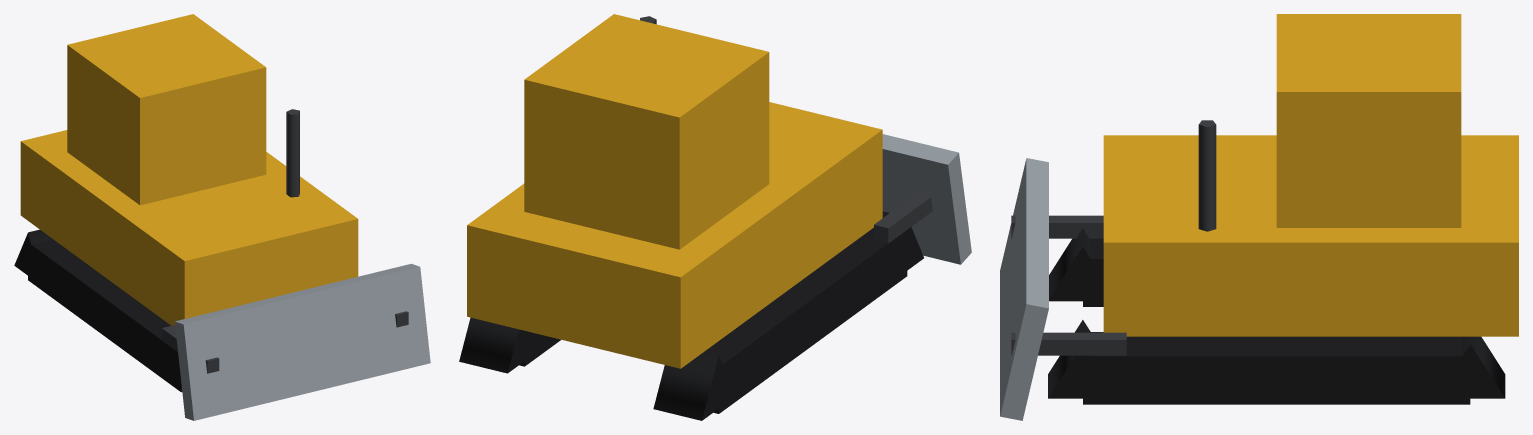
File: veh_ground_bulldozer_a05_lod2.glb
3 views of the same model, side by side, from view 1: azimuth 30°, elevation 25°; view 2: azimuth 150°, elevation 25°; view 3: azimuth 270°, elevation 25° (orthographic). The views are drawn at different scales.
Visible parts, largest first — view 1: body, blade, track_r; view 2: body, track_r, blade, track_l; view 3: body, track_l, blade, track_r.
Boxes of the visible parts, bbox=[...] form: body: bbox=[20, 14, 358, 325]; blade: bbox=[161, 263, 430, 420]; track_r: bbox=[14, 229, 182, 392]; body: bbox=[467, 14, 882, 368]; track_r: bbox=[653, 211, 923, 420]; blade: bbox=[874, 134, 971, 264]; track_l: bbox=[459, 317, 560, 373]; body: bbox=[1103, 14, 1518, 336]; track_l: bbox=[1048, 320, 1505, 404]; blade: bbox=[1000, 158, 1126, 420]; track_r: bbox=[1049, 228, 1103, 306].
Size of the model in its own units: 3 by 2.82 by 4.5.
